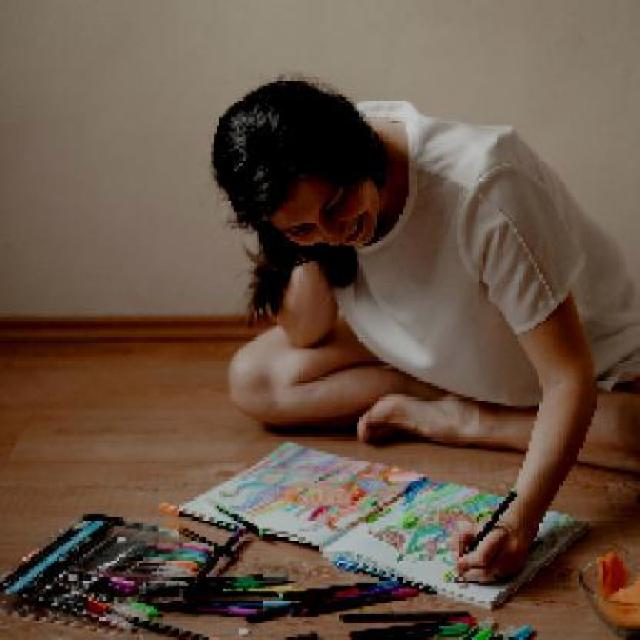child: (284, 183, 379, 246)
